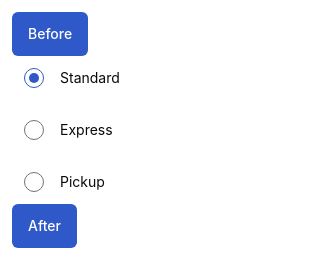
RadioGroup › selects when an option label is clicked
The image size is (332, 265).
Click the text "Pickup" at (82, 182), box x1=60 y1=171 x2=105 y2=193
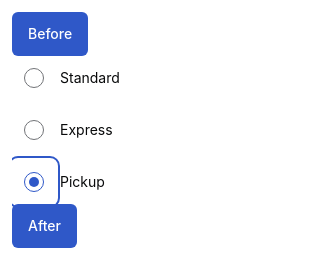
Result: the radio button named "Pickup" next to "Pickup" is checked at x1=12 y1=160 x2=56 y2=204
